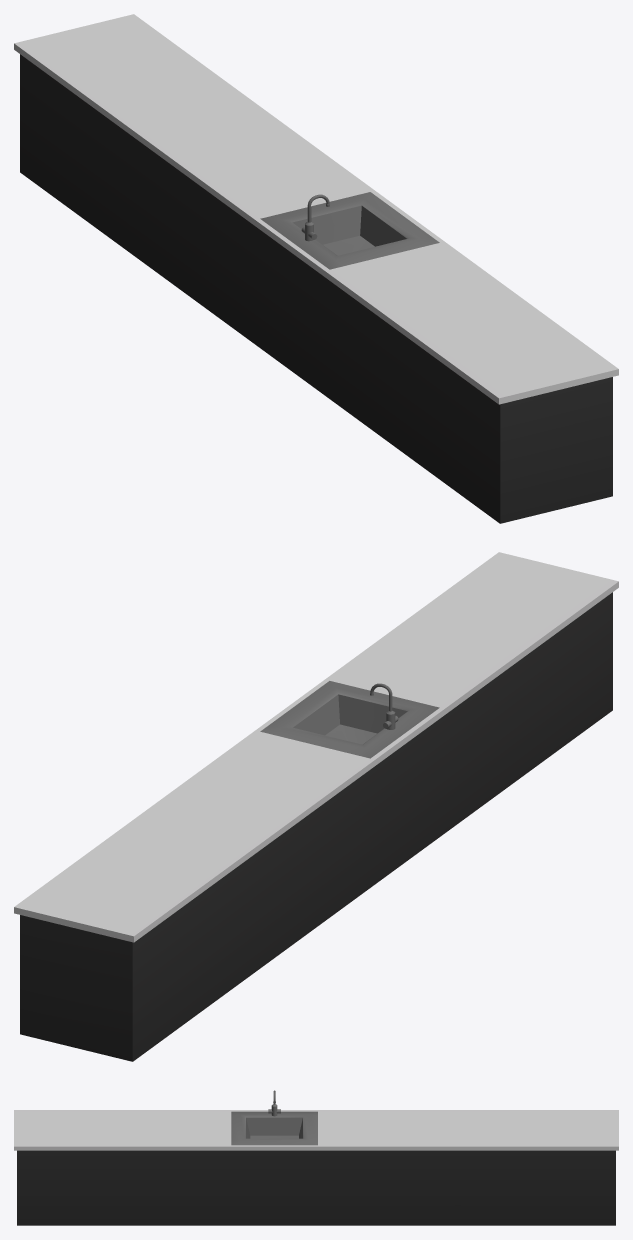
Rendered from KitchenBackCounter.fbx.
3 renders of one model, top to bottom at view 1: azimuth 30°, elevation 25°; view 2: azimuth 150°, elevation 25°; view 3: azimuth 270°, elevation 25°, orthographic. The views are drawn at different scales.
Parts seen in each view (by area): view 1: KitchenCounter, Sink; view 2: KitchenCounter, Sink; view 3: KitchenCounter, Sink.
Part boxes in pixels (x1=…): KitchenCounter: x1=14, y1=14, x2=618, y2=523; Sink: x1=260, y1=192, x2=439, y2=269; KitchenCounter: x1=14, y1=552, x2=618, y2=1061; Sink: x1=260, y1=681, x2=439, y2=758; KitchenCounter: x1=14, y1=1110, x2=618, y2=1225; Sink: x1=231, y1=1090, x2=317, y2=1145.
Bounding box in the file's own units: 100 × 137 × 700.
